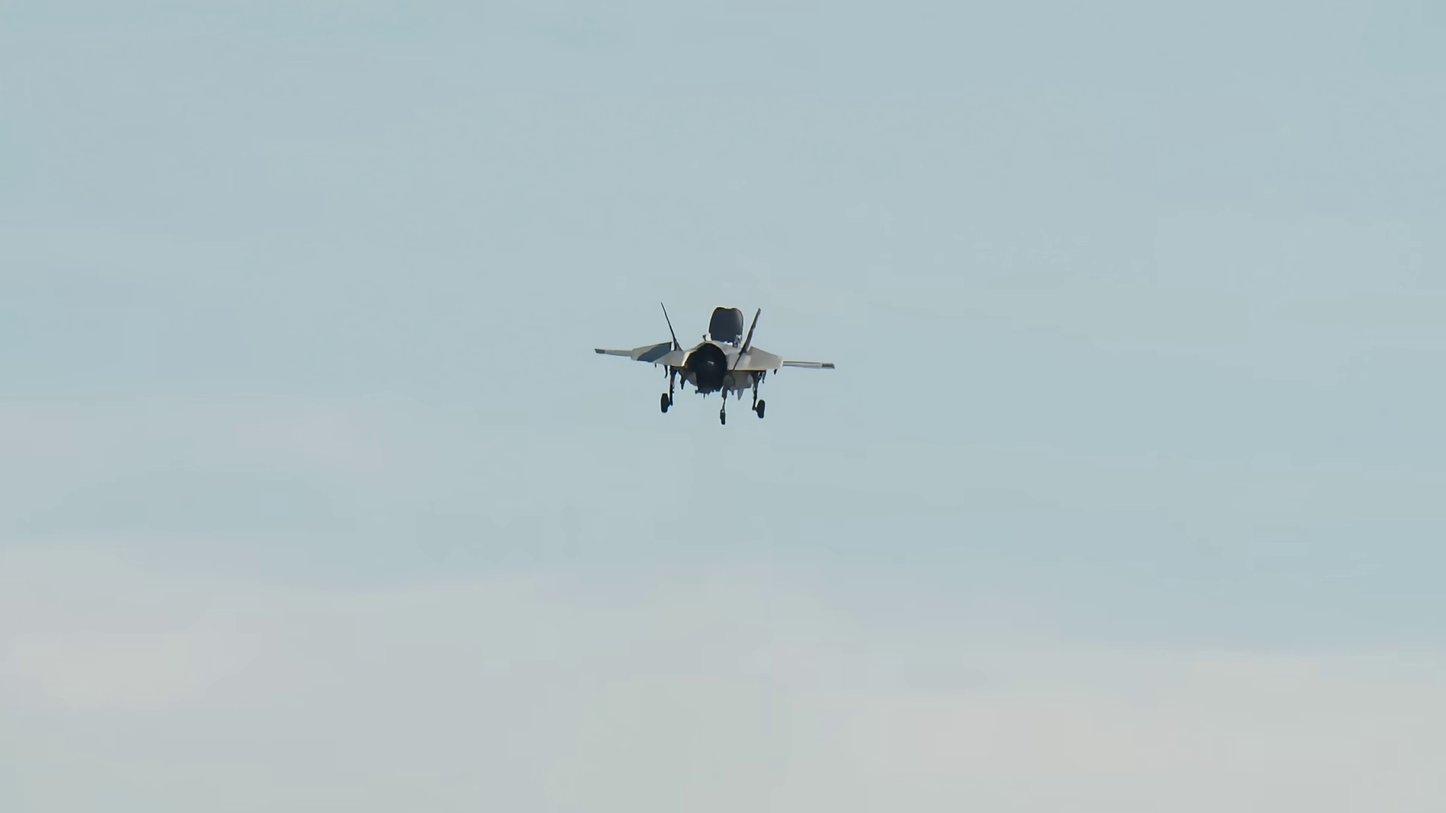F35: (591, 294, 839, 430)
